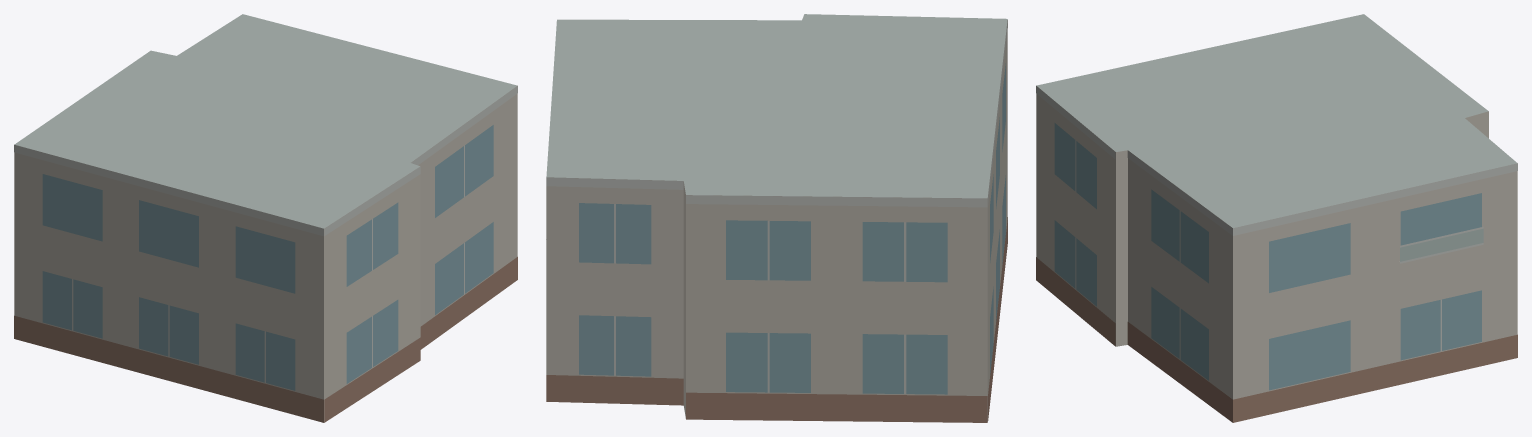
Rendered from survey-upis-32597025.glb.
The picture shows the model from 3 angles, left to right: view 1: azimuth 30°, elevation 25°; view 2: azimuth 150°, elevation 25°; view 3: azimuth 270°, elevation 25°; orthographic projection. The views are drawn at different scales.
Parts seen in each view (by area): view 1: survey-upis-32597025.tmp; view 2: survey-upis-32597025.tmp; view 3: survey-upis-32597025.tmp.
Part boxes in pixels (x1,y1,x2,y2): survey-upis-32597025.tmp: (14, 14, 517, 422); survey-upis-32597025.tmp: (546, 14, 1007, 422); survey-upis-32597025.tmp: (1036, 14, 1517, 422).
Bounding box in the file's own units: 14.41 × 6.1 × 13.69.
